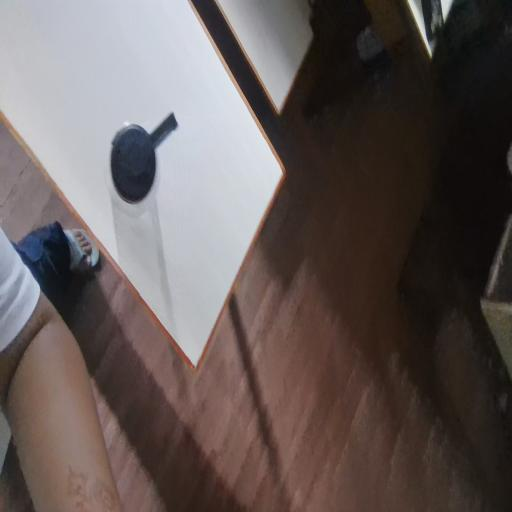Bottle: (103, 92, 169, 275)
